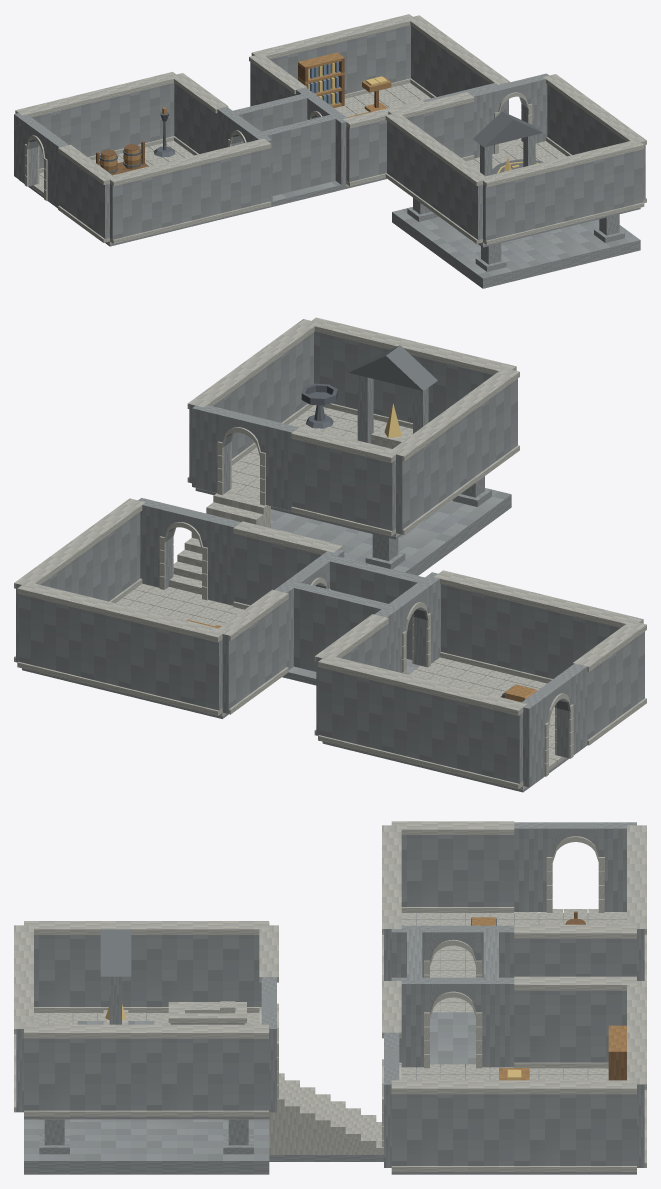
File: dungeon-rooms.glb
3 views of the same model, one above another, from view 1: azimuth 30°, elevation 25°; view 2: azimuth 150°, elevation 25°; view 3: azimuth 270°, elevation 25° (orthographic). The views are drawn at different scales.
Visible parts, largest first — view 1: 036-corridor-straight/0, 006-wall-plain/0, 030-wall-plain/0, 010-wall-plain/0, 034-wall-plain/0, 011-wall-plain/0, 023-wall-plain/0, 041-floor-slab/0, 035-wall-arch/0, 009-wall-plain/0, 033-wall-plain/0, 005-wall-arch/0 (+50 smaller); view 2: 036-corridor-straight/0, 019-wall-plain/0, 007-wall-plain/0, 031-wall-plain/0, 011-wall-plain/0, 023-wall-plain/0, 010-wall-plain/0, 035-wall-arch/0, 022-wall-arch/0, 005-wall-arch/0, 029-wall-plain/0, 017-wall-plain/0 (+48 smaller); view 3: 028-wall-plain/0, 032-wall-plain/0, 020-wall-plain/0, 016-wall-plain/0, 009-wall-plain/0, 029-wall-plain/0, 017-wall-plain/0, 033-wall-plain/0, 037-stairs-straight/1, 021-wall-arch/0, 005-wall-arch/0, 043-floor-slab/0 (+46 smaller).
Boxes of the visible parts, <box> form: 036-corridor-straight/0: <box>228,93,346,207</box>; 006-wall-plain/0: <box>110,167,191,239</box>; 030-wall-plain/0: <box>483,168,564,240</box>; 010-wall-plain/0: <box>191,148,270,220</box>; 034-wall-plain/0: <box>564,149,643,221</box>; 011-wall-plain/0: <box>100,83,174,153</box>; 023-wall-plain/0: <box>337,25,410,94</box>; 041-floor-slab/0: <box>437,236,561,283</box>; 035-wall-arch/0: <box>468,73,549,158</box>; 009-wall-plain/0: <box>59,153,109,238</box>; 033-wall-plain/0: <box>432,154,482,239</box>; 005-wall-arch/0: <box>14,113,68,207</box>; 036-corridor-straight/0: <box>282,554,430,685</box>; 019-wall-plain/0: <box>118,618,222,710</box>; 007-wall-plain/0: <box>419,692,522,783</box>; 031-wall-plain/0: <box>292,439,395,530</box>; 011-wall-plain/0: <box>319,667,419,759</box>; 023-wall-plain/0: <box>18,594,118,685</box>; 010-wall-plain/0: <box>441,584,534,674</box>; 035-wall-arch/0: <box>192,405,298,510</box>; 022-wall-arch/0: <box>138,498,241,605</box>; 005-wall-arch/0: <box>522,663,587,787</box>; 029-wall-plain/0: <box>396,421,460,534</box>; 017-wall-plain/0: <box>222,600,286,713</box>; 028-wall-plain/0: <box>146,1027,269,1115</box>; 032-wall-plain/0: <box>24,1038,146,1110</box>; 020-wall-plain/0: <box>391,1094,514,1165</box>; 016-wall-plain/0: <box>514,1094,636,1165</box>; 009-wall-plain/0: <box>401,835,514,906</box>; 029-wall-plain/0: <box>146,922,269,1006</box>; 017-wall-plain/0: <box>514,990,626,1062</box>; 033-wall-plain/0: <box>34,935,146,1006</box>; 037-stairs-straight/1: <box>269,1073,383,1154</box>; 021-wall-arch/0: <box>391,977,514,1067</box>; 005-wall-arch/0: <box>514,822,636,911</box>; 043-floor-slab/0: <box>146,1119,269,1167</box>.
Bounding box in the file's own units: 20.65 × 6.5 × 20.65.
8 materials, 4 textured.
